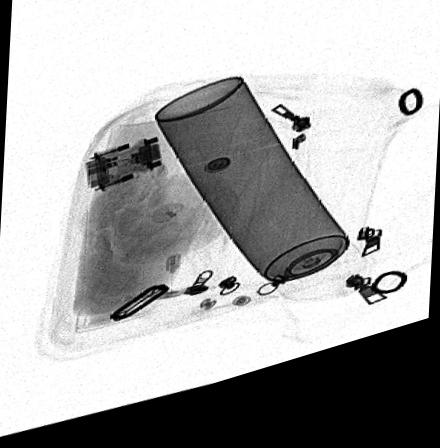Sprayer: (155, 89, 368, 319)
